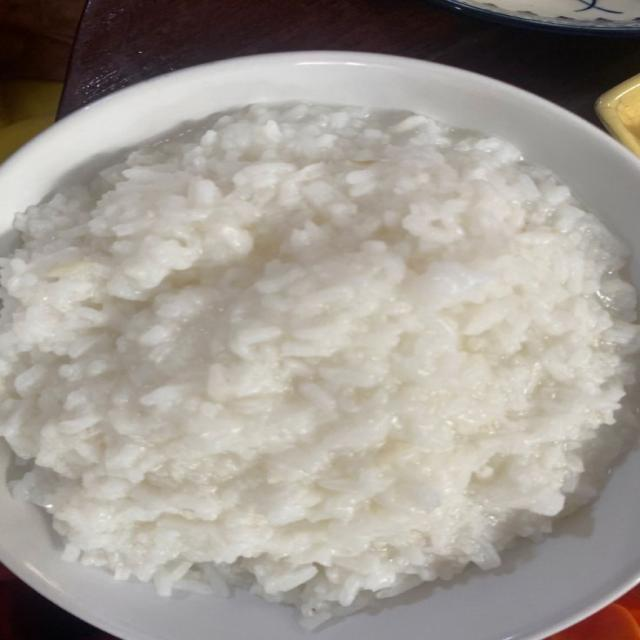rice: (0, 104, 638, 623)
